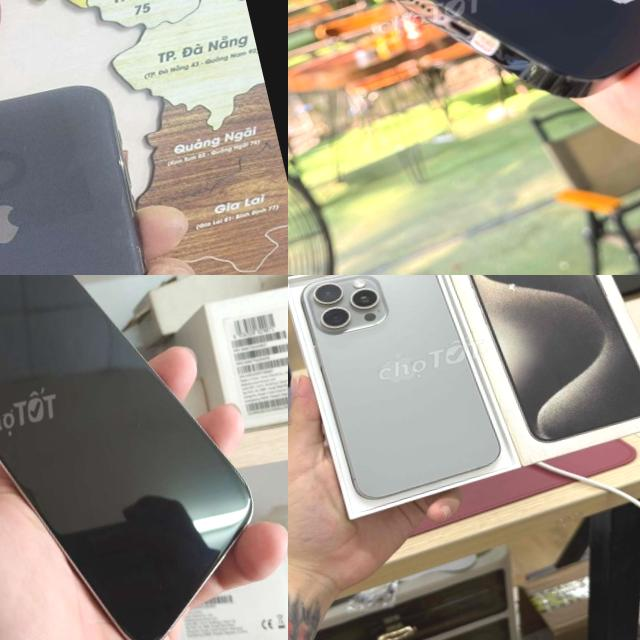scratch: (116, 226, 153, 272), (110, 146, 128, 174)
